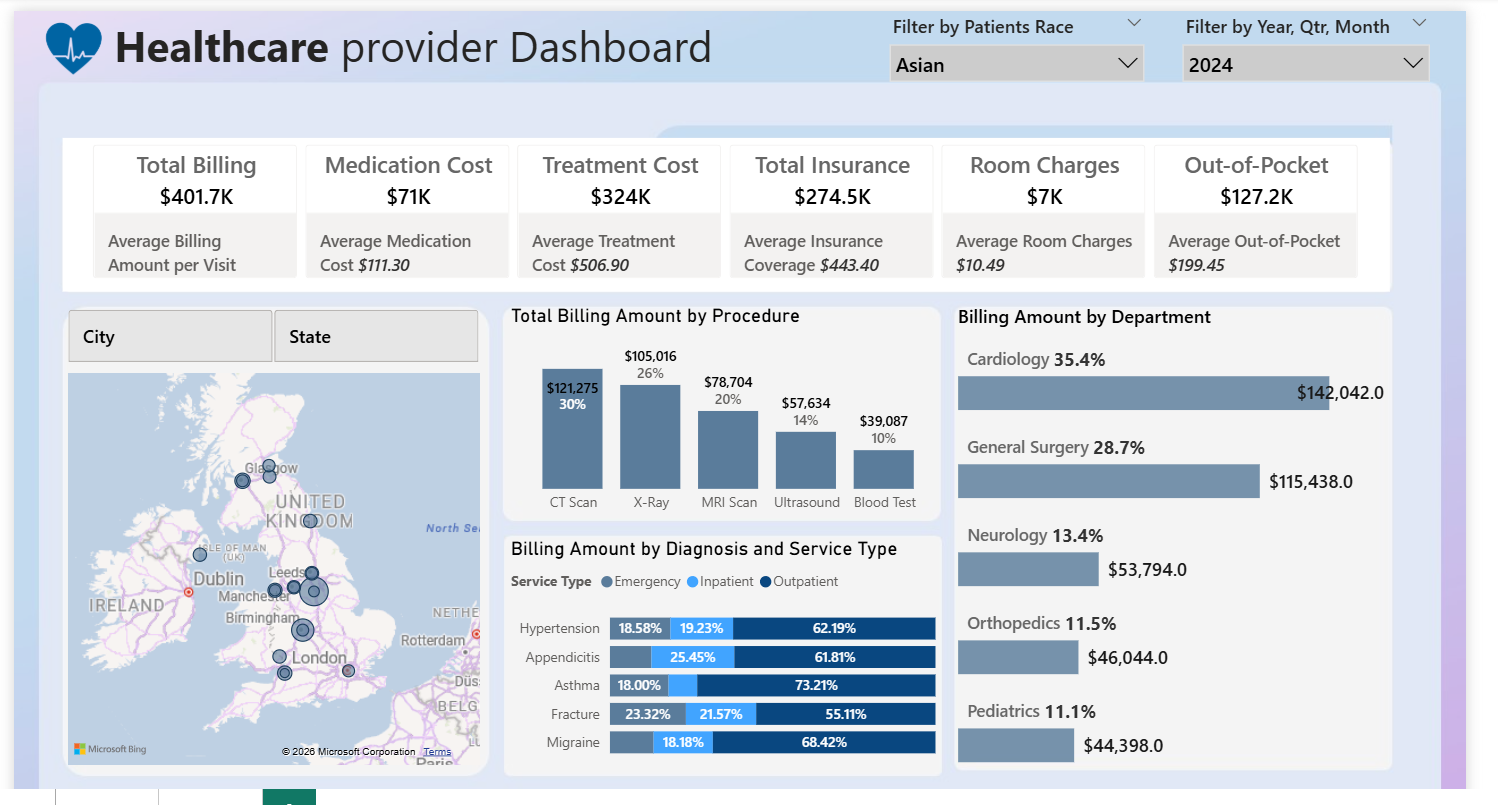

This screenshot's page, from the dashboard's own definition file:
{"tool":"powerbi","page":{"name":"Page 2","canvas":[1280,720],"ordinal":1},"visuals":[{"type":"cardVisual","fields":{"Data":["DAX Calculation.Total Billing Amount","DAX Calculation.Total Medication Cost","DAX Calculation.Total Treatment Cost","DAX Calculation.Total Insurance Covered","DAX Calculation.Total Room Charges","DAX Calculation.Out-of-Pocket"]},"box":[42.9,111.4,1170,135.7],"z":0},{"type":"clusteredColumnChart","fields":{"Category":["procedures.Procedure"],"Y":["DAX Calculation.Total Billing Amount"]},"box":[432.9,258.6,394.3,192.9],"z":1000},{"type":"hundredPercentStackedBarChart","title":" Billing Amount by Diagnosis and Service Type","fields":{"Y":["DAX Calculation.Total Billing Amount"],"Category":["diagnoses.Diagnosis"],"Series":["visits.Service Type"]},"box":[432.9,464.3,384.3,205.7],"z":2000},{"type":"clusteredBarChart","title":" Billing Amount by Department","fields":{"Category":["departments.Department"],"Y":["DAX Calculation.Blank Measure","DAX Calculation.Total Billing Amount"]},"box":[827.1,258.6,385.7,411.4],"z":3000},{"type":"advancedSlicerVisual","fields":{"Values":["Patients Location Switch.Patients Location Switch"]},"box":[42.4,258.4,373.3,56.1],"z":4000},{"type":"map","title":" Billing Amount by City and State","fields":{"Category":["cities.City","cities.State"],"Size":["DAX Calculation.Total Billing Amount"]},"box":[42.9,314.3,372.9,355.7],"z":5000},{"type":"textbox","box":[83.4,0,541.5,68.4],"z":6000},{"type":"slicer","fields":{"Values":["patients.Race"]},"box":[761.6,0,244.8,67],"z":6001},{"type":"slicer","fields":{"Values":["DataTable.Year","DataTable.Qtr","DataTable.Month"]},"box":[1020,0,237.9,67],"z":6002},{"type":"image","box":[8.2,0,87.5,67],"z":6003}]}

Visuals, with their boxes on the page's 1280x720 design canvas (x1, y1, x2, y2). These are canvas units, not pixel positions in the 1498x805 screenshot, which may show the page scaled, cropped or inside an application window:
cardVisual - DAX Calculation.Total Billing Amount x DAX Calculation.Total Medication Cost: region(43, 111, 1213, 247)
clusteredColumnChart - procedures.Procedure x DAX Calculation.Total Billing Amount: region(433, 259, 827, 452)
" Billing Amount by Diagnosis and Service Type" hundredPercentStackedBarChart: region(433, 464, 817, 670)
" Billing Amount by Department" clusteredBarChart: region(827, 259, 1213, 670)
advancedSlicerVisual - Patients Location Switch.Patients Location Switch: region(42, 258, 416, 314)
" Billing Amount by City and State" map: region(43, 314, 416, 670)
textbox: region(83, 0, 625, 68)
slicer - patients.Race: region(762, 0, 1006, 67)
slicer - DataTable.Year x DataTable.Qtr: region(1020, 0, 1258, 67)
image: region(8, 0, 96, 67)
